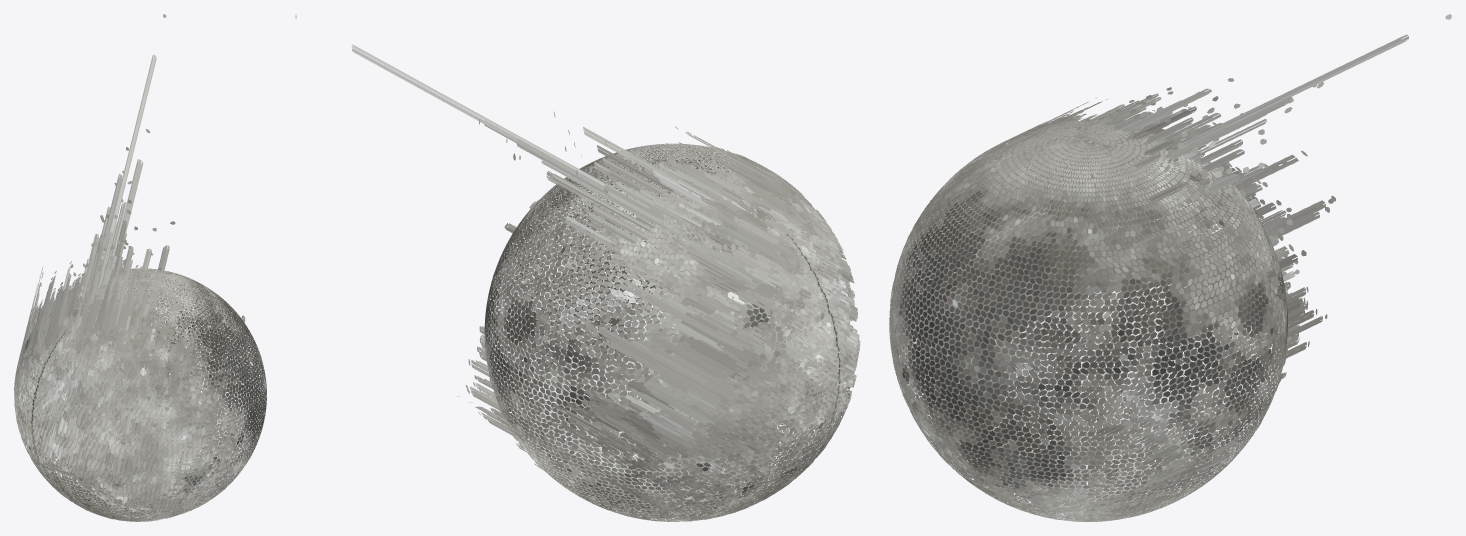
File: moon.glb
The picture shows the model from 3 angles, left to right: view 1: azimuth 30°, elevation 25°; view 2: azimuth 150°, elevation 25°; view 3: azimuth 270°, elevation 25°; orthographic projection. The views are drawn at different scales.
Visible parts, largest first — view 1: Sphere; view 2: Sphere; view 3: Sphere.
Part boxes in pixels (x1,y1,x2,y2): Sphere: (14,14,266,521); Sphere: (295,14,860,521); Sphere: (889,14,1451,521).
Size of the model in its own units: 2.27 by 3.3 by 2.82.
Materials: 1 (1 with a texture image).
